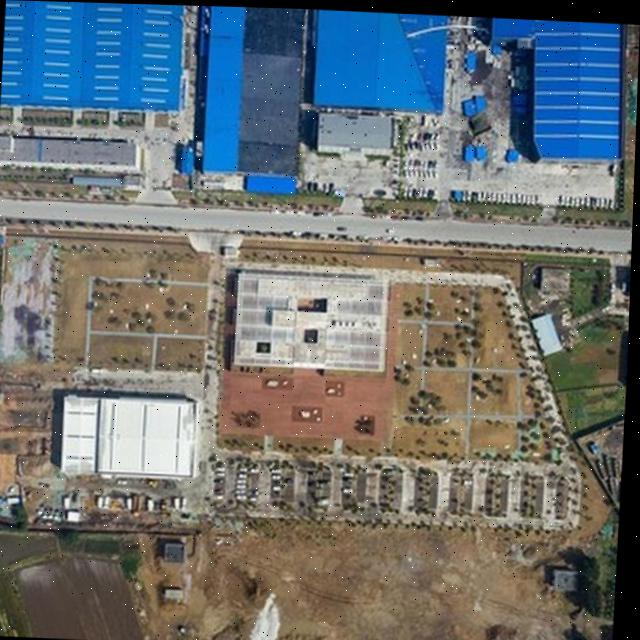building: (482, 17, 629, 161), (0, 0, 187, 113), (193, 6, 306, 174), (232, 268, 391, 371), (309, 9, 446, 114), (58, 394, 195, 479), (527, 311, 563, 361)
